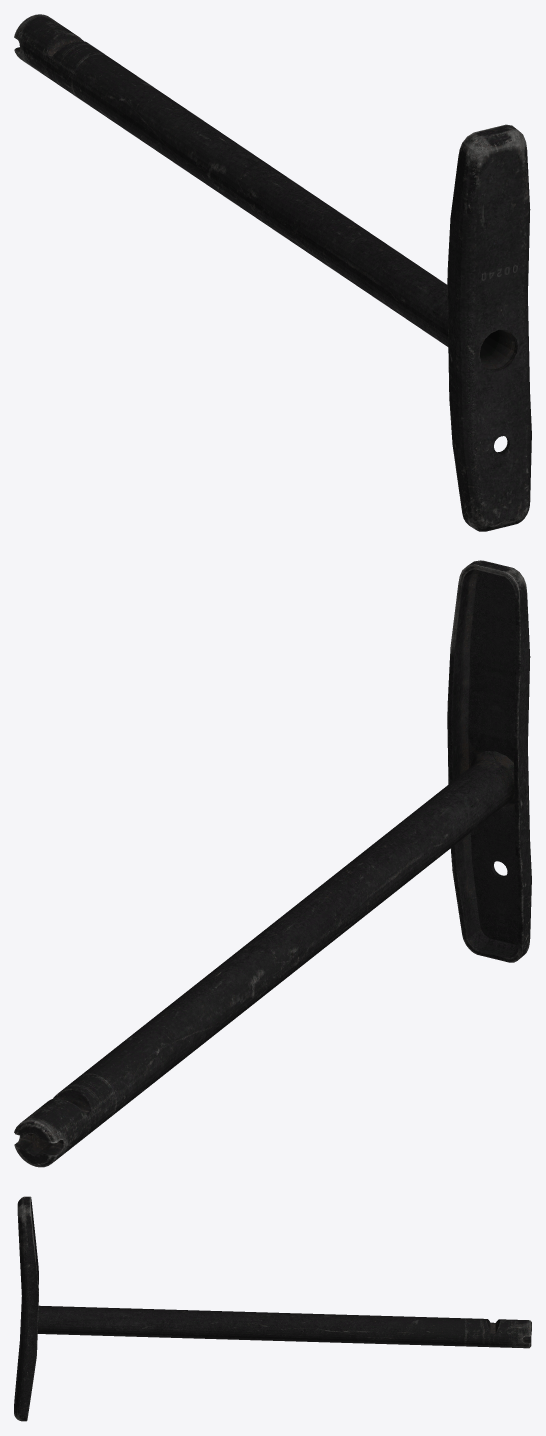
The picture shows the model from 3 angles, top to bottom: view 1: azimuth 30°, elevation 25°; view 2: azimuth 150°, elevation 25°; view 3: azimuth 270°, elevation 25°; orthographic projection. The views are drawn at different scales.
Visible parts, largest first — view 1: TW_5e848dc4e4dbc5266a4ec63d_PZ_Import; view 2: TW_5e848dc4e4dbc5266a4ec63d_PZ_Import; view 3: TW_5e848dc4e4dbc5266a4ec63d_PZ_Import.
Part boxes in pixels (bbox=[...]): TW_5e848dc4e4dbc5266a4ec63d_PZ_Import: bbox=[14, 14, 531, 531]; TW_5e848dc4e4dbc5266a4ec63d_PZ_Import: bbox=[14, 560, 531, 1167]; TW_5e848dc4e4dbc5266a4ec63d_PZ_Import: bbox=[14, 1196, 531, 1421].
Size of the model in its own units: 0.0135 by 0.1572 by 0.0722.
1 material, 1 textured.
